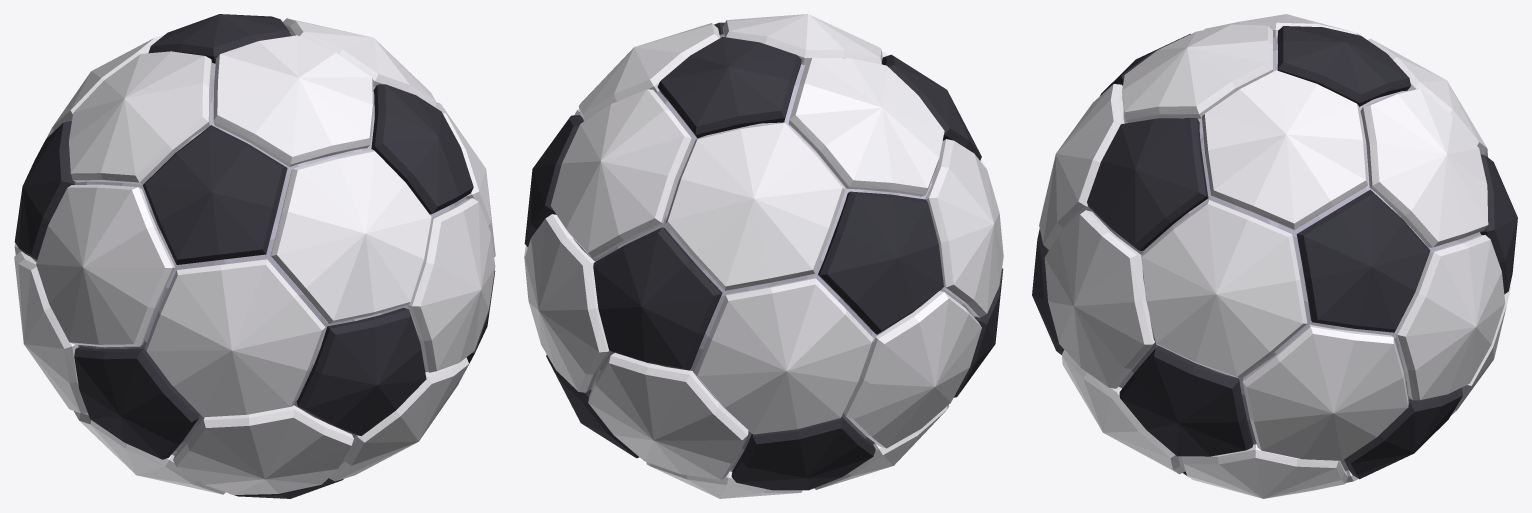
File: Ball_02_Classic.glb
3 renders of one model, left to right at view 1: azimuth 30°, elevation 25°; view 2: azimuth 150°, elevation 25°; view 3: azimuth 270°, elevation 25°, orthographic.
Visible parts, largest first — view 1: Ball_02_Classic.001; view 2: Ball_02_Classic.001; view 3: Ball_02_Classic.001.
Boxes of the visible parts, <box> form: Ball_02_Classic.001: <box>14,14,495,498</box>; Ball_02_Classic.001: <box>524,14,1003,498</box>; Ball_02_Classic.001: <box>1032,14,1517,498</box>.
Size of the model in its own units: 2 by 2 by 2.04.
Materials: 1 (1 with a texture image).
